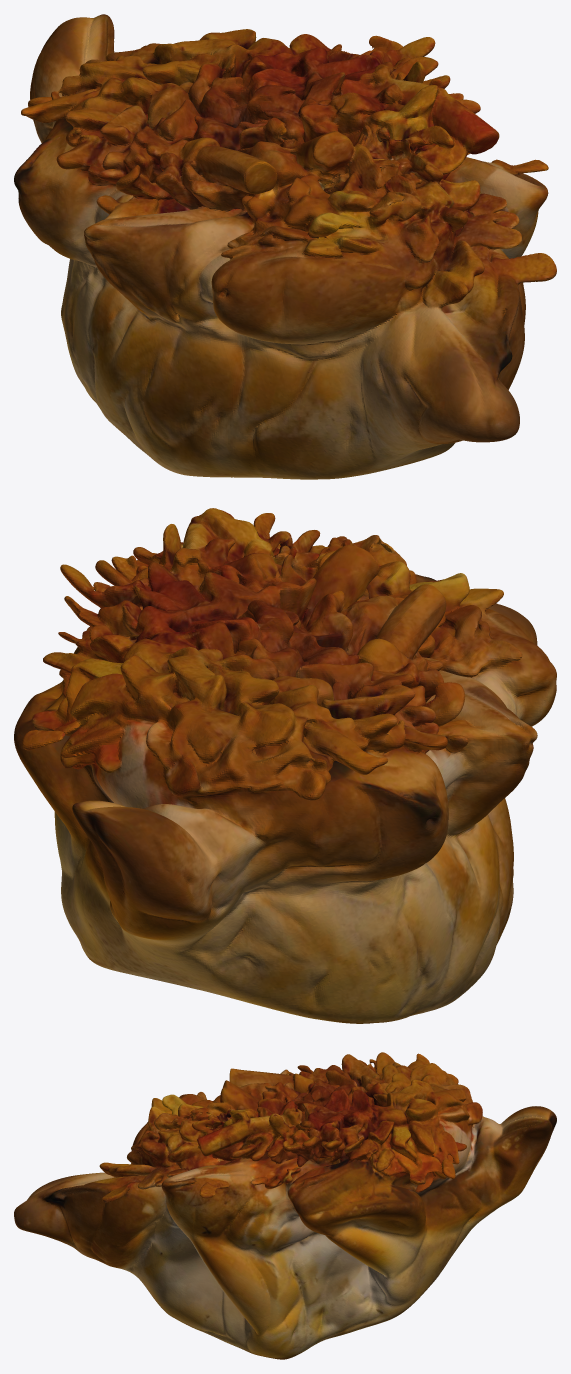
The model's file is Doritos-3D.glb.
3 views of the same model, one above another, from view 1: azimuth 30°, elevation 25°; view 2: azimuth 150°, elevation 25°; view 3: azimuth 270°, elevation 25° (orthographic). The views are drawn at different scales.
Visible parts, largest first — view 1: tripo_node_50717ce2-df8a-4d75-8bab-d631811feda1; view 2: tripo_node_50717ce2-df8a-4d75-8bab-d631811feda1; view 3: tripo_node_50717ce2-df8a-4d75-8bab-d631811feda1.
Boxes of the visible parts, x1,y1,x2,y2 form: tripo_node_50717ce2-df8a-4d75-8bab-d631811feda1: [14, 14, 556, 479]; tripo_node_50717ce2-df8a-4d75-8bab-d631811feda1: [14, 508, 556, 1023]; tripo_node_50717ce2-df8a-4d75-8bab-d631811feda1: [14, 1052, 556, 1359].
Size of the model in its own units: 0.5842 by 0.5015 by 1.
1 material, 1 textured.
